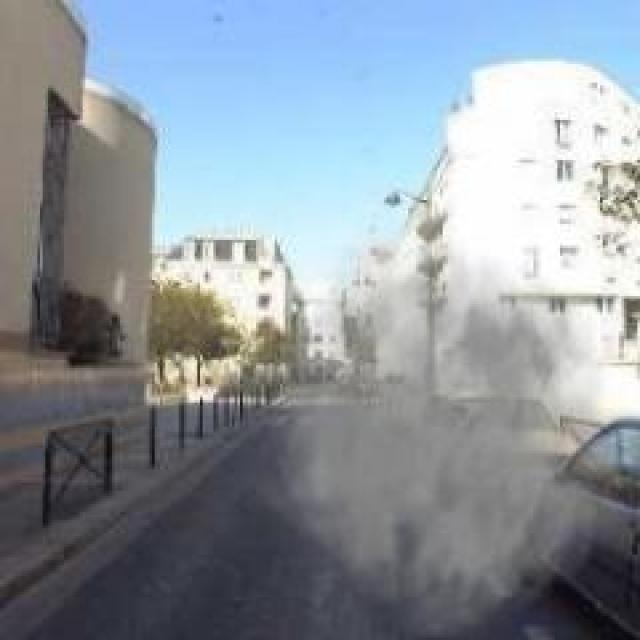Smoke: (240, 223, 617, 640)
